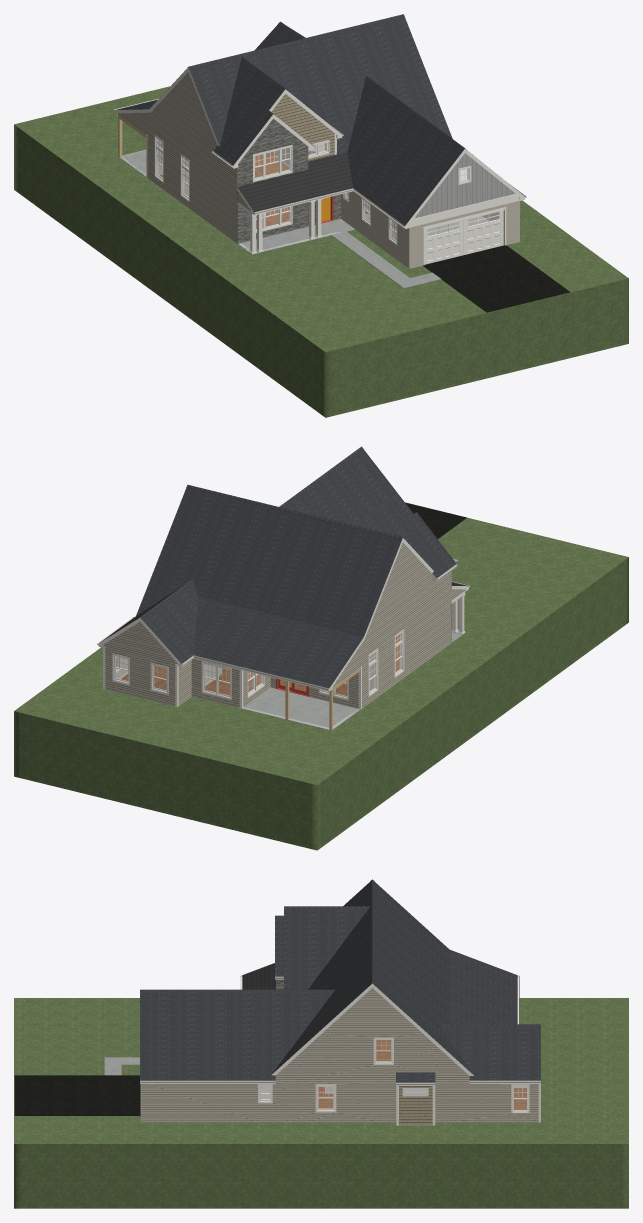
File: house.dae
3 renders of one model, top to bottom at view 1: azimuth 30°, elevation 25°; view 2: azimuth 150°, elevation 25°; view 3: azimuth 270°, elevation 25°, orthographic.
Parts seen in each view (by area): view 1: geo_221, geo_131, geo_11, geo_202, geo_232, geo_181, geo_205, geo_179, geo_195, geo_206, geo_127, geo_159 (+2 smaller); view 2: geo_221, geo_131, geo_202, geo_11, geo_206, geo_127, geo_71, geo_232; view 3: geo_221, geo_131, geo_202, geo_232, geo_11, geo_159, geo_127, geo_71, geo_181, geo_206.
Boxes of the visible parts, x1,y1,x2,y2 form: geo_221: (14, 86, 628, 417); geo_131: (116, 14, 524, 225); geo_11: (114, 67, 526, 265); geo_202: (118, 72, 250, 243); geo_232: (423, 245, 569, 312); geo_181: (237, 152, 353, 212); geo_205: (341, 191, 519, 268); geo_179: (237, 118, 340, 243); geo_195: (414, 153, 515, 218); geo_206: (119, 147, 487, 288); geo_127: (157, 139, 499, 240); geo_159: (271, 94, 334, 161); geo_221: (14, 517, 628, 850); geo_131: (100, 446, 456, 688); geo_202: (103, 543, 465, 708); geo_11: (97, 538, 469, 709); geo_206: (243, 558, 462, 729); geo_127: (115, 633, 401, 695); geo_71: (121, 635, 399, 695); geo_232: (405, 502, 466, 538); geo_221: (14, 998, 628, 1208); geo_131: (140, 879, 540, 1082); geo_202: (141, 988, 538, 1122); geo_232: (14, 1075, 140, 1115); geo_11: (140, 975, 540, 1125); geo_159: (399, 1086, 432, 1125); geo_127: (261, 1040, 526, 1109); geo_71: (318, 1040, 526, 1109); geo_181: (242, 963, 275, 989); geo_206: (104, 1057, 139, 1075).
Bounding box in the file's own units: 728 × 1295 × 476.
59 materials, 28 textured.
